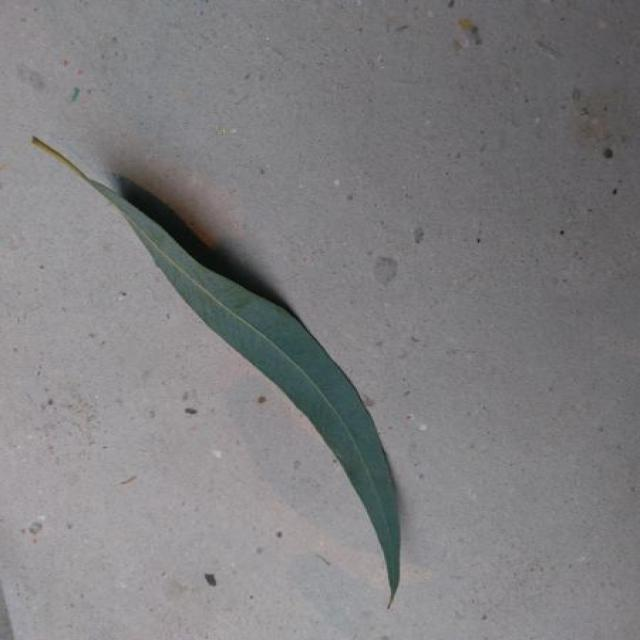eucalpytus: (33, 136, 400, 603)
